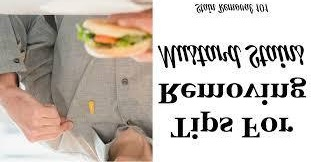mustard: (86, 98, 99, 117)
